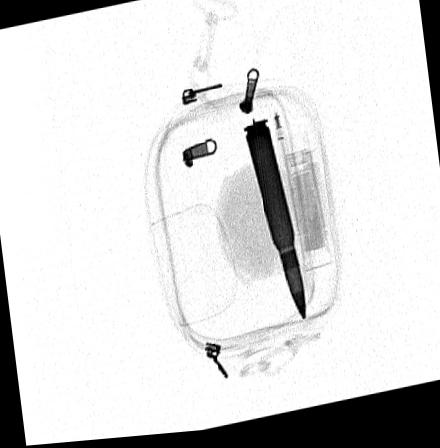Bullet: (240, 123, 306, 329)
